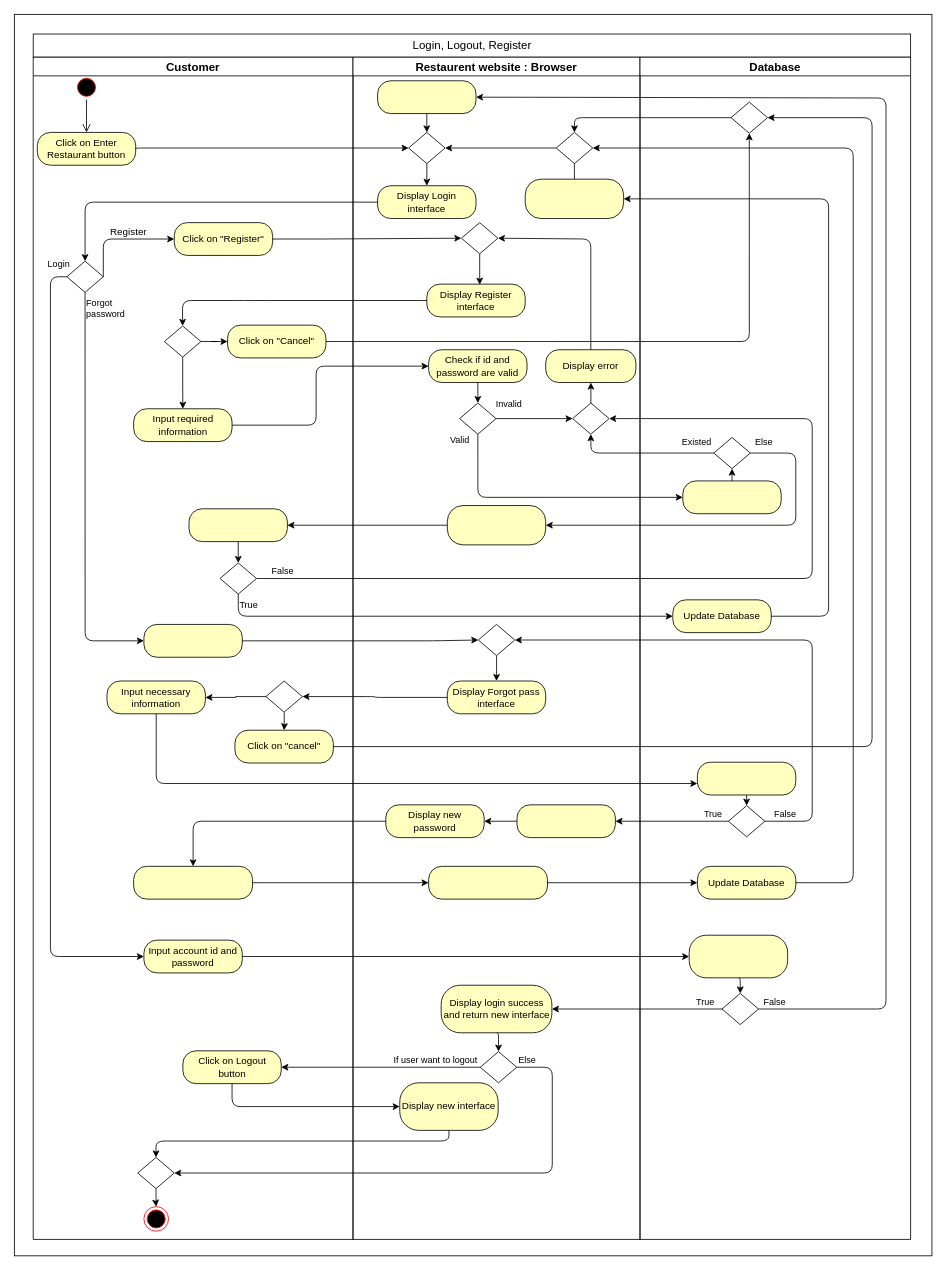
The diagram is 946 pixels wide and 1270 high, and some of its shapes have lost their labels. The shapes that lost their labels are listed below. From the top down, each one's box as (x1, y1, x2, y2) in pixels, then its label:
(377, 80, 476, 114): Display Wrong ID or Password
(524, 178, 624, 219): Display register success notification
(682, 480, 781, 514): Check if account id is existed
(188, 508, 287, 542): Input OTP
(446, 505, 546, 545): Generate an OTP
(143, 624, 242, 657): Click on "Forgot password"
(697, 761, 796, 795): Check if information is true
(516, 804, 615, 838): Generate new password
(133, 866, 253, 899): Click on "Confirm new password"
(428, 866, 548, 899): Display reset password success
(688, 934, 788, 978): Check if account id and password are true
